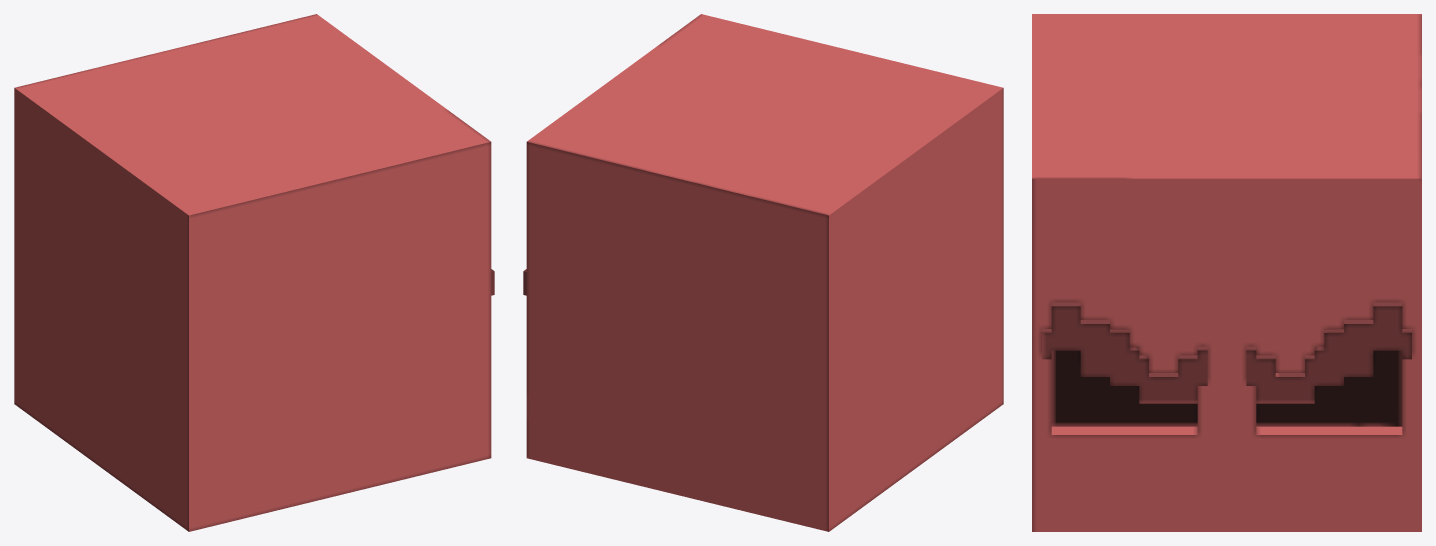
The model's file is villain_mr_square 1.fbx.
3 renders of one model, left to right at view 1: azimuth 30°, elevation 25°; view 2: azimuth 150°, elevation 25°; view 3: azimuth 270°, elevation 25°, orthographic. The views are drawn at different scales.
Visible parts, largest first — view 1: villain_mr_square.001; view 2: villain_mr_square.001; view 3: villain_mr_square.001.
Boxes of the visible parts, box(x1,y1,x2,y2) form: villain_mr_square.001: box(14, 14, 494, 531); villain_mr_square.001: box(523, 14, 1003, 531); villain_mr_square.001: box(1032, 14, 1421, 531).
Size of the model in its own units: 4.1 by 4 by 4.
Materials: 1 (1 with a texture image).
